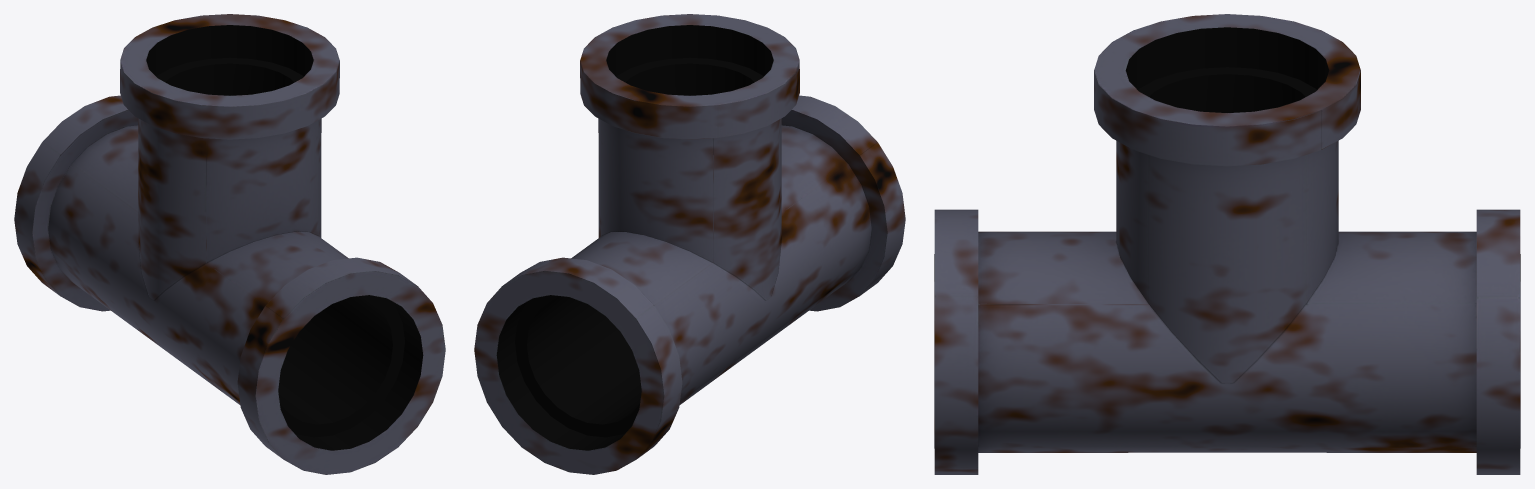
File: PipeT.fbx
The picture shows the model from 3 angles, left to right: view 1: azimuth 30°, elevation 25°; view 2: azimuth 150°, elevation 25°; view 3: azimuth 270°, elevation 25°; orthographic projection. The views are drawn at different scales.
Visible parts, largest first — view 1: TPipeTwink; view 2: TPipeTwink; view 3: TPipeTwink.
Boxes of the visible parts, x1=… form: TPipeTwink: x1=14, y1=14, x2=445, y2=474; TPipeTwink: x1=474, y1=14, x2=905, y2=474; TPipeTwink: x1=934, y1=14, x2=1520, y2=474.
Bounding box in the file's own units: 182 × 296 × 401.
2 materials, 1 textured.
